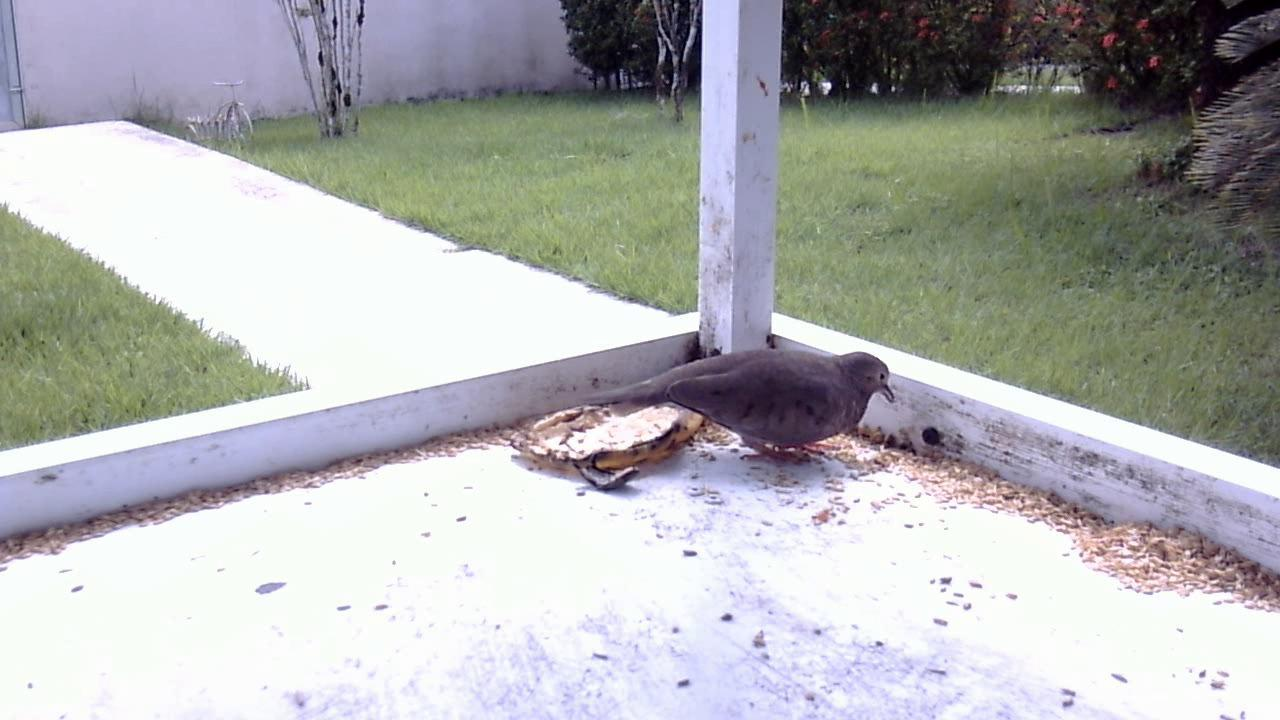rolinha: (565, 337, 898, 480)
